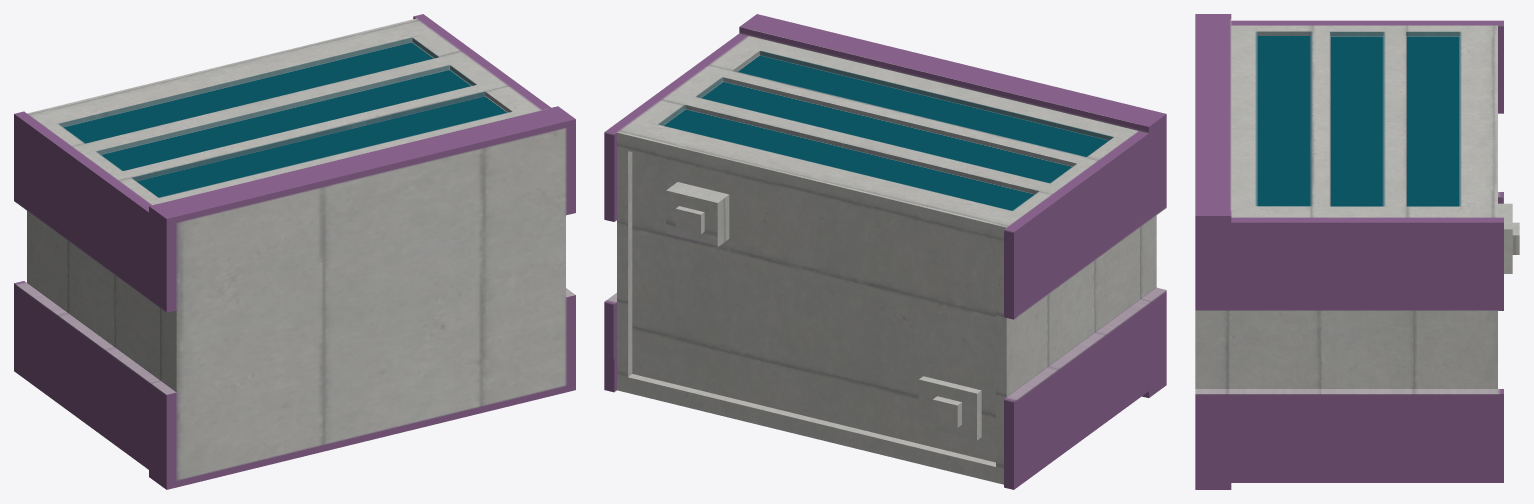
Rendered from buildings-industrial-03.fbx.
3 views of the same model, side by side, from view 1: azimuth 30°, elevation 25°; view 2: azimuth 150°, elevation 25°; view 3: azimuth 270°, elevation 25° (orthographic).
Parts seen in each view (by area): view 1: buildings-industrial-03; view 2: buildings-industrial-03; view 3: buildings-industrial-03.
Boxes of the visible parts, left/top/right/bottom form: buildings-industrial-03: left=14, top=14, right=575, bottom=489; buildings-industrial-03: left=604, top=14, right=1166, bottom=489; buildings-industrial-03: left=1195, top=14, right=1519, bottom=489.
Bounding box in the file's own units: 9.12 × 5.77 × 6.19.
